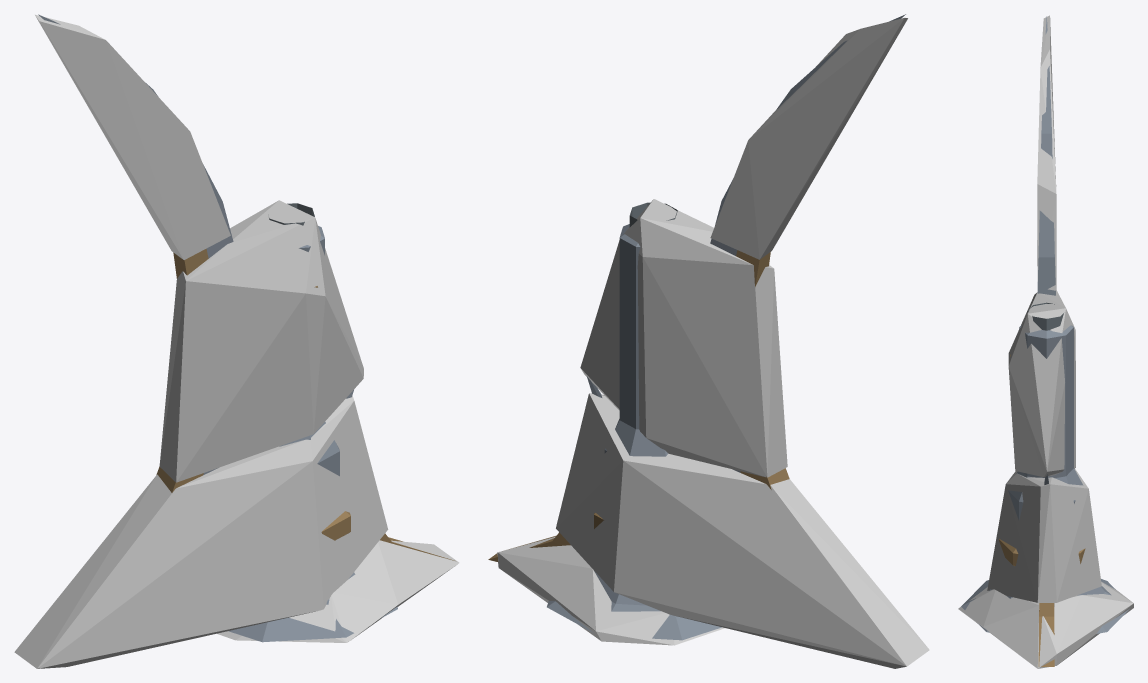
Rendered from SM_Prop_Sun_Dial_01.fbx.
The picture shows the model from 3 angles, left to right: view 1: azimuth 30°, elevation 25°; view 2: azimuth 150°, elevation 25°; view 3: azimuth 270°, elevation 25°; orthographic projection. The views are drawn at different scales.
Visible parts, largest first — view 1: SM_Prop_Sun_Dial_01_ConvexHulls, SM_Prop_Sun_Dial_01; view 2: SM_Prop_Sun_Dial_01_ConvexHulls, SM_Prop_Sun_Dial_01; view 3: SM_Prop_Sun_Dial_01_ConvexHulls, SM_Prop_Sun_Dial_01.
Boxes of the visible parts, left/top/right/bottom form: SM_Prop_Sun_Dial_01_ConvexHulls: left=14, top=14, right=459, bottom=668; SM_Prop_Sun_Dial_01: left=38, top=14, right=454, bottom=642; SM_Prop_Sun_Dial_01_ConvexHulls: left=497, top=18, right=929, bottom=668; SM_Prop_Sun_Dial_01: left=488, top=14, right=905, bottom=640; SM_Prop_Sun_Dial_01_ConvexHulls: left=958, top=15, right=1133, bottom=668; SM_Prop_Sun_Dial_01: left=961, top=16, right=1129, bottom=666.
Size of the model in its own units: 85.63 by 39.49 by 124.
Materials: 2 (1 with a texture image).
